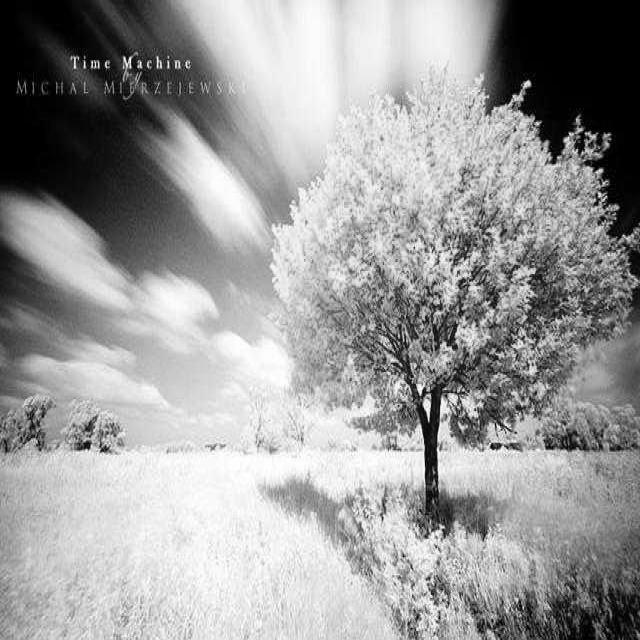Tree: (272, 71, 640, 515)
